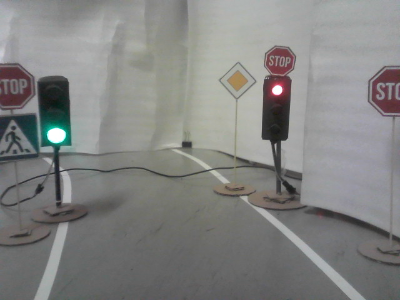crosswalk: (1, 117, 39, 157)
priority_road: (220, 64, 255, 98)
stop: (1, 64, 35, 110), (265, 47, 295, 75)
trafficlight_green: (39, 79, 71, 145)
trafficlight_red: (263, 78, 289, 142)
